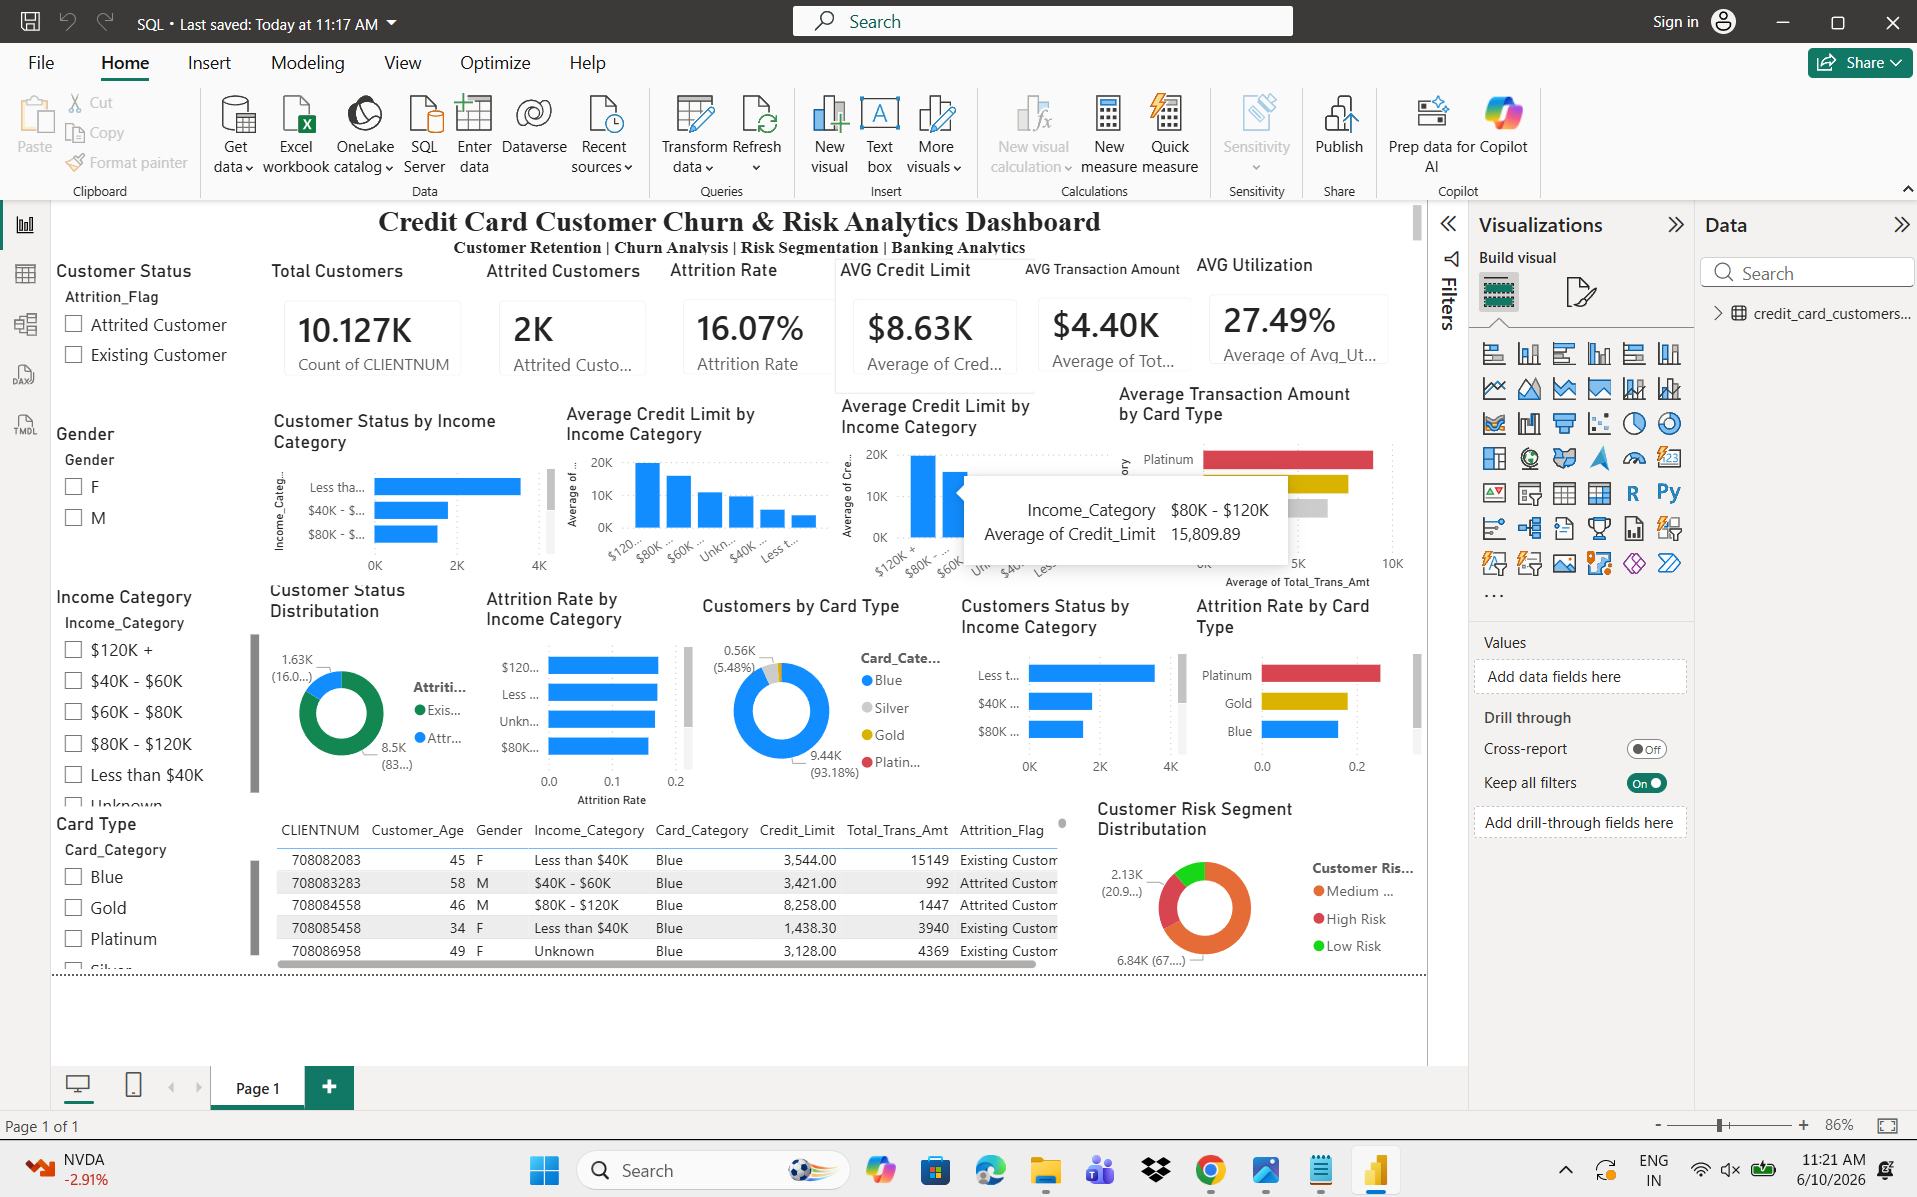

This screenshot's page, from the dashboard's own definition file:
{"tool":"powerbi","page":{"name":"Page 1","canvas":[1280,720],"ordinal":0},"visuals":[{"type":"textbox","box":[9.6,0,1270.7,56.3],"z":0},{"type":"slicer","title":"Customer Status","fields":{"Values":["credit_card_customers_clean.Attrition_Flag"]},"box":[0,56.3,199,150.9],"z":1000},{"type":"slicer","title":"Income Category","fields":{"Values":["credit_card_customers_clean.Income_Category"]},"box":[0,359.5,199,209.9],"z":2000},{"type":"slicer","title":"Card Type","fields":{"Values":["credit_card_customers_clean.Card_Category"]},"box":[0,569.5,199,150.9],"z":3000},{"type":"slicer","title":"Gender","fields":{"Values":["credit_card_customers_clean.Gender"]},"box":[0,207.2,199,152.3],"z":4000},{"type":"cardVisual","title":"Total Customers","fields":{"Data":["Count(credit_card_customers_clean.CLIENTNUM)"]},"box":[199.7,56.3,199.7,125.2],"z":5000},{"type":"cardVisual","title":"Attrited Customers","fields":{"Data":["credit_card_customers_clean.Attrited Customers"]},"box":[399.5,56.3,171.6,125.2],"z":6000},{"type":"cardVisual","title":"Attrition Rate","fields":{"Data":["credit_card_customers_clean.Attrition Rate"]},"box":[571.1,54.9,191.3,125.2],"z":7000},{"type":"cardVisual","title":"AVG Credit Limit","fields":{"Data":["Avg(credit_card_customers_clean.Credit_Limit)"]},"box":[728.6,54.9,187.1,125.2],"z":8000},{"type":"cardVisual","title":"AVG Transaction Amount","fields":{"Data":["Avg(credit_card_customers_clean.Total_Trans_Amt)"]},"box":[900.9,56.9,177.5,120.6],"z":9000},{"type":"donutChart","title":"Customer Status Distributation","fields":{"Category":["credit_card_customers_clean.Attrition_Flag"],"Y":["CountNonNull(credit_card_customers_clean.CLIENTNUM)"]},"box":[199,352.8,201,209.2],"z":10000},{"type":"barChart","title":"Customers  Status by Income Category","fields":{"Category":["credit_card_customers_clean.Income_Category"],"Y":["CountNonNull(credit_card_customers_clean.CLIENTNUM)"]},"box":[841.3,367.1,219.5,177.5],"z":11000},{"type":"donutChart","title":"Customers by Card Type","fields":{"Y":["CountNonNull(credit_card_customers_clean.CLIENTNUM)"],"Category":["credit_card_customers_clean.Card_Category"]},"box":[601.5,367.1,237.1,195.1],"z":12000},{"type":"clusteredColumnChart","title":"Average Credit Limit by Income Category","fields":{"Category":["credit_card_customers_clean.Income_Category"],"Y":["Avg(credit_card_customers_clean.Credit_Limit)"]},"box":[730,181.5,258.8,185.7],"z":13000},{"type":"clusteredBarChart","title":"Average Transaction Amount by Card Type","fields":{"Category":["credit_card_customers_clean.Card_Category"],"Y":["Avg(credit_card_customers_clean.Total_Trans_Amt)"]},"box":[988.8,170.2,274.3,196.9],"z":14000},{"type":"donutChart","title":"Customer Risk Segment Distributation","fields":{"Category":["credit_card_customers_clean.Customer Risk Segment"],"Y":["CountNonNull(credit_card_customers_clean.CLIENTNUM)"]},"box":[969.1,555.6,310.9,164.6],"z":15000},{"type":"clusteredBarChart","title":"Customer Status by Income Category","fields":{"Category":["credit_card_customers_clean.Income_Category"],"Y":["CountNonNull(credit_card_customers_clean.Attrition_Flag)"]},"box":[202.5,195.5,271.5,163.2],"z":16000},{"type":"clusteredColumnChart","title":"Average Credit Limit by Income Category","fields":{"Category":["credit_card_customers_clean.Income_Category"],"Y":["Avg(credit_card_customers_clean.Credit_Limit)"]},"box":[474,188.5,254.6,164.6],"z":17000},{"type":"tableEx","fields":{"Values":["credit_card_customers_clean.CLIENTNUM","credit_card_customers_clean.Customer_Age","credit_card_customers_clean.Gender","credit_card_customers_clean.Income_Category","credit_card_customers_clean.Card_Category","credit_card_customers_clean.Credit_Limit","credit_card_customers_clean.Total_Trans_Amt","credit_card_customers_clean.Attrition_Flag"]},"box":[204,569.7,746.9,150.5],"z":18000},{"type":"cardVisual","title":"AVG Utilization","fields":{"Data":["Avg(credit_card_customers_clean.Avg_Utilization_Ratio)"]},"box":[1060.8,50.1,201.9,120.6],"z":19000},{"type":"clusteredBarChart","title":"Attrition Rate by Card Type","fields":{"Category":["credit_card_customers_clean.Card_Category"],"Y":["credit_card_customers_clean.Attrition Rate"]},"box":[1060.8,367.1,219.5,177.5],"z":20000},{"type":"clusteredBarChart","title":"Attrition Rate by Income Category","fields":{"Y":["credit_card_customers_clean.Attrition Rate"],"Category":["credit_card_customers_clean.Income_Category"]},"box":[399.7,360.4,201.9,208.6],"z":21000}]}

Visuals, with their boxes in screenshot pixels (x1, y1, x2, y2):
textbox: [left=50, top=0, right=1916, bottom=41]
"Customer Status" slicer: [left=35, top=41, right=340, bottom=272]
"Income Category" slicer: [left=35, top=506, right=340, bottom=827]
"Card Type" slicer: [left=35, top=827, right=340, bottom=1058]
"Gender" slicer: [left=35, top=272, right=340, bottom=506]
"Total Customers" cardVisual: [left=341, top=41, right=647, bottom=233]
"Attrited Customers" cardVisual: [left=647, top=41, right=909, bottom=233]
"Attrition Rate" cardVisual: [left=909, top=39, right=1202, bottom=231]
"AVG Credit Limit" cardVisual: [left=1151, top=39, right=1437, bottom=231]
"AVG Transaction Amount" cardVisual: [left=1414, top=42, right=1686, bottom=227]
"Customer Status Distributation" donutChart: [left=340, top=495, right=647, bottom=816]
"Customers  Status by Income Category" barChart: [left=1323, top=517, right=1659, bottom=789]
"Customers by Card Type" donutChart: [left=956, top=517, right=1319, bottom=816]
"Average Credit Limit by Income Category" clusteredColumnChart: [left=1153, top=233, right=1549, bottom=517]
"Average Transaction Amount by Card Type" clusteredBarChart: [left=1549, top=216, right=1916, bottom=517]
"Customer Risk Segment Distributation" donutChart: [left=1519, top=806, right=1916, bottom=1058]
"Customer Status by Income Category" clusteredBarChart: [left=345, top=254, right=761, bottom=504]
"Average Credit Limit by Income Category" clusteredColumnChart: [left=761, top=244, right=1151, bottom=496]
tableEx - credit_card_customers_clean.CLIENTNUM x credit_card_customers_clean.Customer_Age: [left=347, top=827, right=1491, bottom=1058]
"AVG Utilization" cardVisual: [left=1659, top=32, right=1916, bottom=216]
"Attrition Rate by Card Type" clusteredBarChart: [left=1659, top=517, right=1916, bottom=789]
"Attrition Rate by Income Category" clusteredBarChart: [left=647, top=507, right=956, bottom=826]
